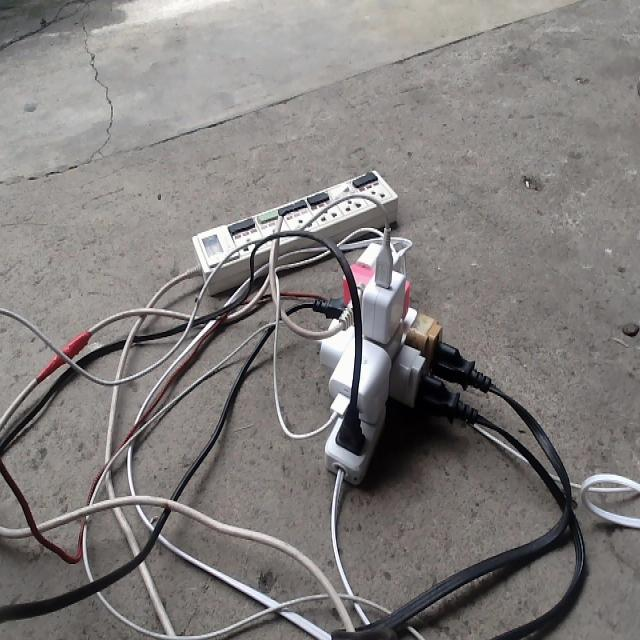-: (309, 236, 458, 487)
